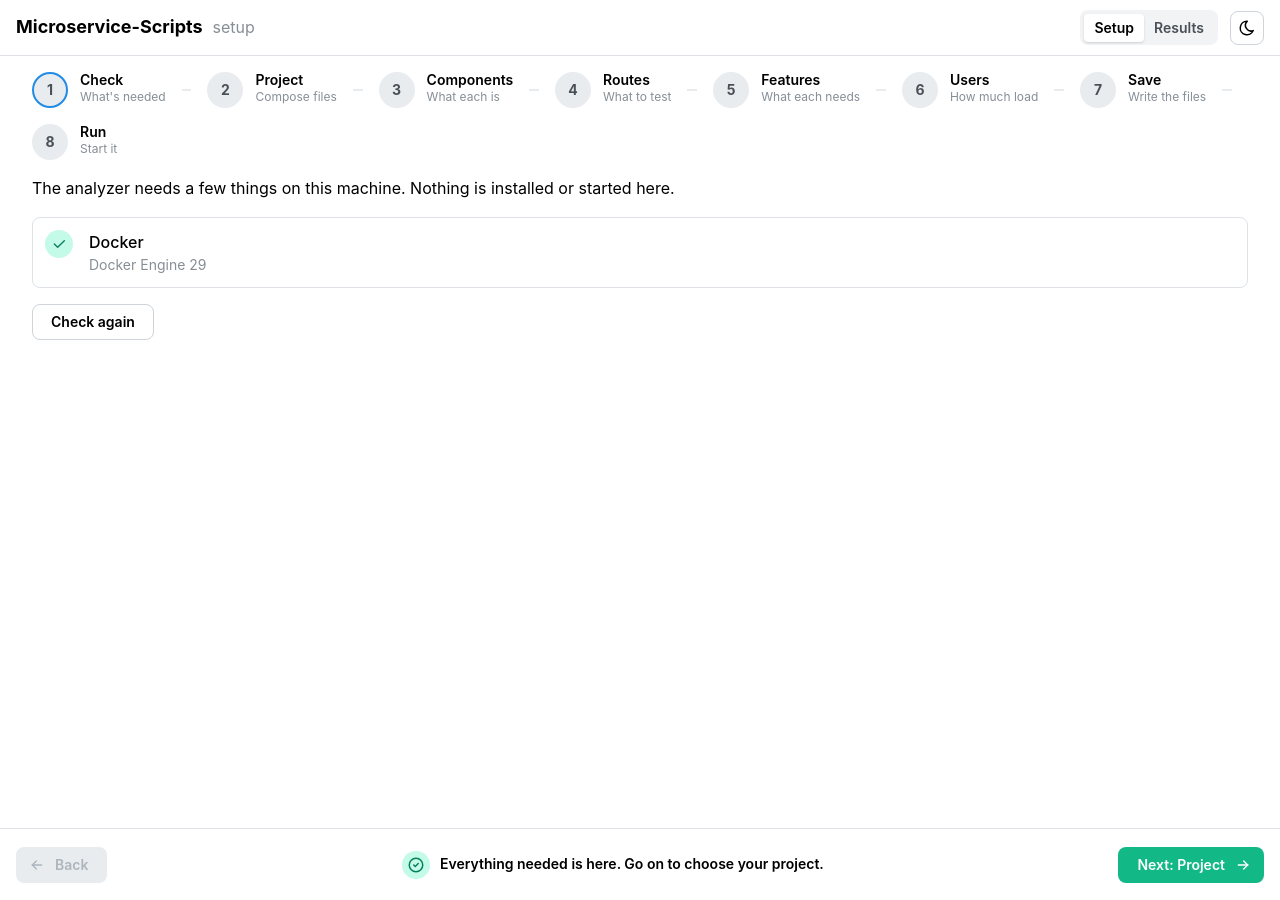
Scenario: the results page › opens from the header at any time, before any setup, and goes back
Expected: the text "Everything needed is here. Go on to choose your project." is shown, [440,854,824,875]
Click the radio button labelled "Results": (1179, 27) [1154,19,1204,36]
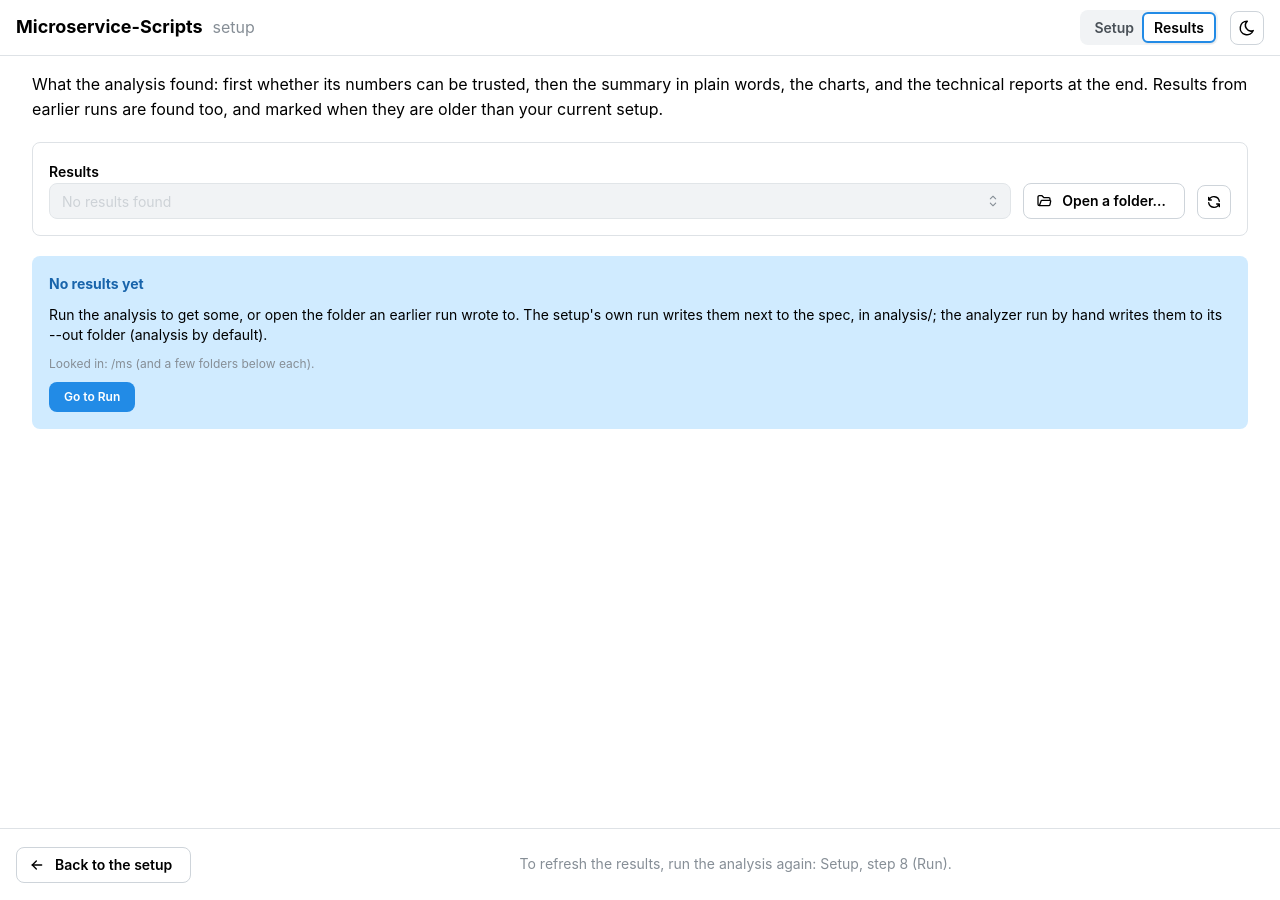
Now the text "No results yet" is shown, box [49,273,144,295]
Now the button "Next: Project" is gone
Click the button "Back to the setup": (104, 864) [16,846,191,882]
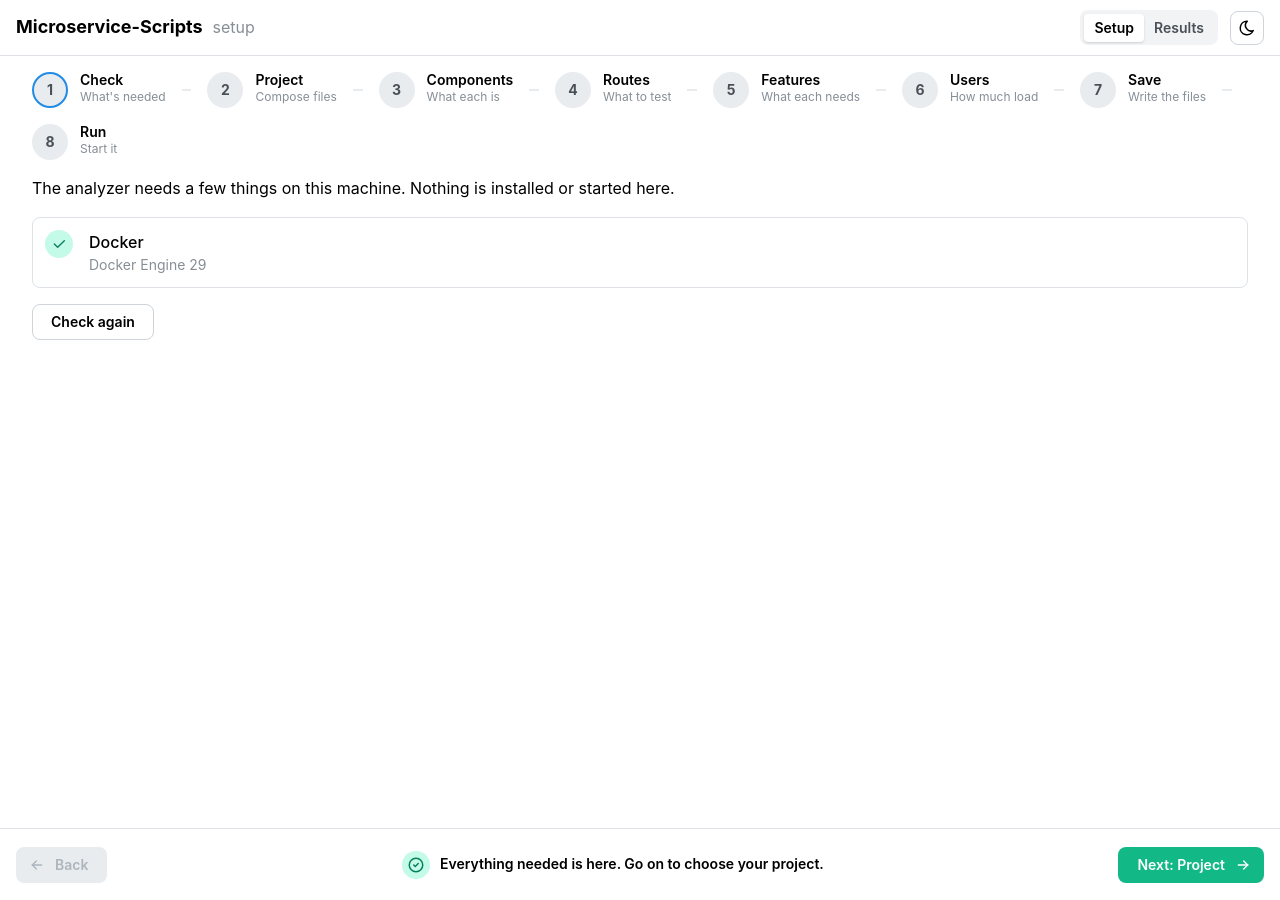
Now the button "Next: Project" is shown, box [1118,846,1264,882]
